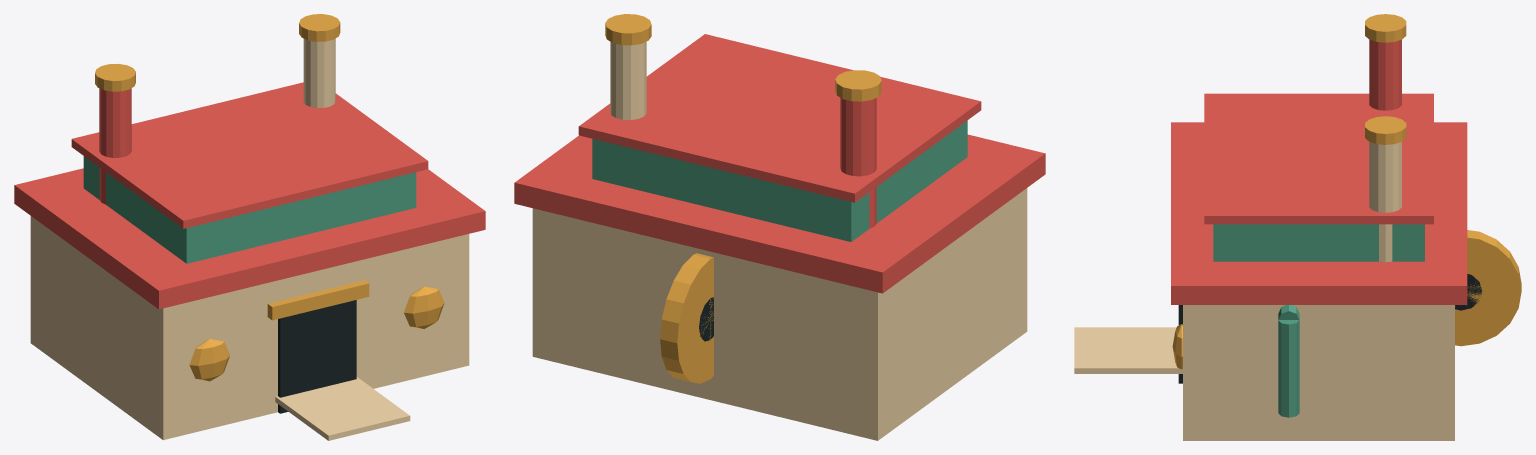
The model's file is ParkParkCandyFactory.obj.
The picture shows the model from 3 angles, left to right: view 1: azimuth 30°, elevation 25°; view 2: azimuth 150°, elevation 25°; view 3: azimuth 270°, elevation 25°; orthographic projection. The views are drawn at different scales.
Visible parts, largest first — view 1: ParkParkCandyFactory; view 2: ParkParkCandyFactory; view 3: ParkParkCandyFactory.
Part boxes in pixels (left/top/right/bottom): ParkParkCandyFactory: left=14, top=14, right=485, bottom=440; ParkParkCandyFactory: left=514, top=14, right=1045, bottom=440; ParkParkCandyFactory: left=1074, top=14, right=1521, bottom=440.
Bounding box in the file's own units: 13.15 × 10.6 × 14.8.
